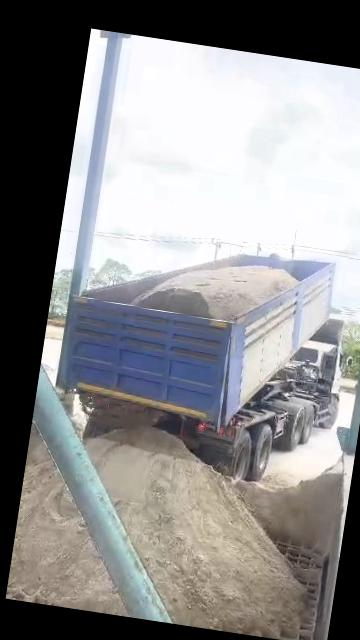sand: (88, 427, 302, 638), (6, 448, 125, 616), (235, 463, 342, 552), (133, 266, 297, 320), (80, 391, 162, 439)
